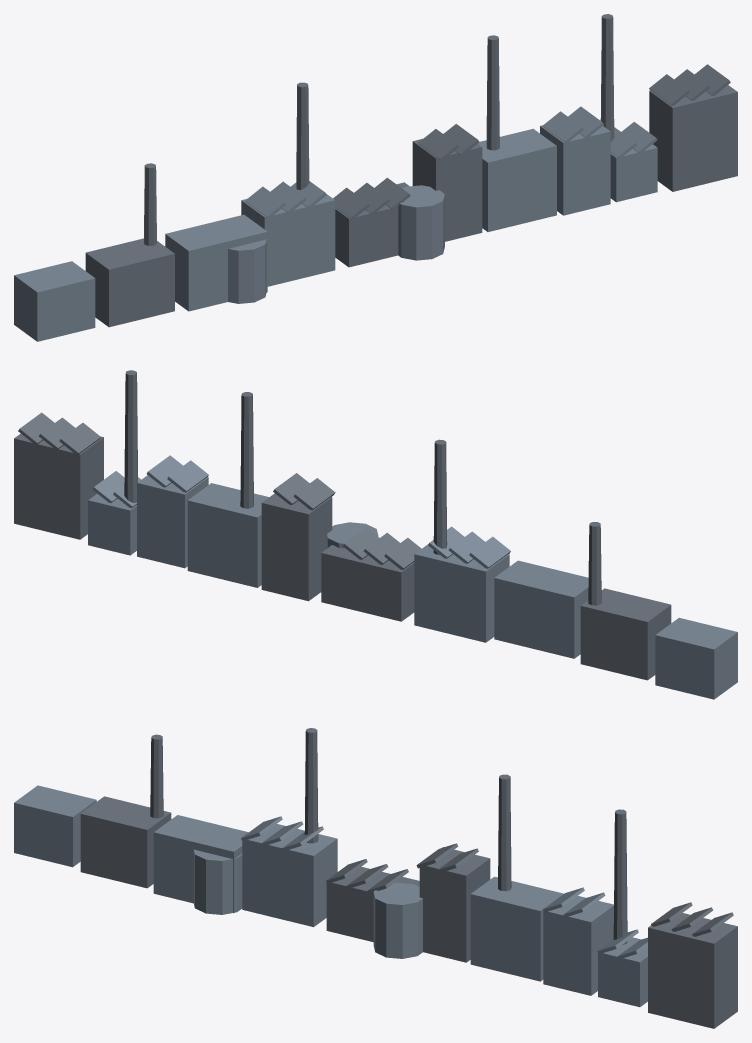
File: bg_skyline.fbx
The picture shows the model from 3 angles, top to bottom: view 1: azimuth 30°, elevation 25°; view 2: azimuth 150°, elevation 25°; view 3: azimuth 330°, elevation 25°; orthographic projection.
Visible parts, largest first — view 1: c_7D8B99_SmoothPlastic, c_6E7781_SmoothPlastic; view 2: c_7D8B99_SmoothPlastic, c_6E7781_SmoothPlastic; view 3: c_7D8B99_SmoothPlastic, c_6E7781_SmoothPlastic.
Part boxes in pixels (<box>): c_7D8B99_SmoothPlastic: <box>14,106,657,341</box>; c_6E7781_SmoothPlastic: <box>85,14,737,327</box>; c_7D8B99_SmoothPlastic: <box>88,455,737,699</box>; c_6E7781_SmoothPlastic: <box>14,370,671,680</box>; c_7D8B99_SmoothPlastic: <box>14,785,647,1007</box>; c_6E7781_SmoothPlastic: <box>80,728,737,1028</box>.
Size of the model in its own units: 274 by 67.49 by 25.88.
